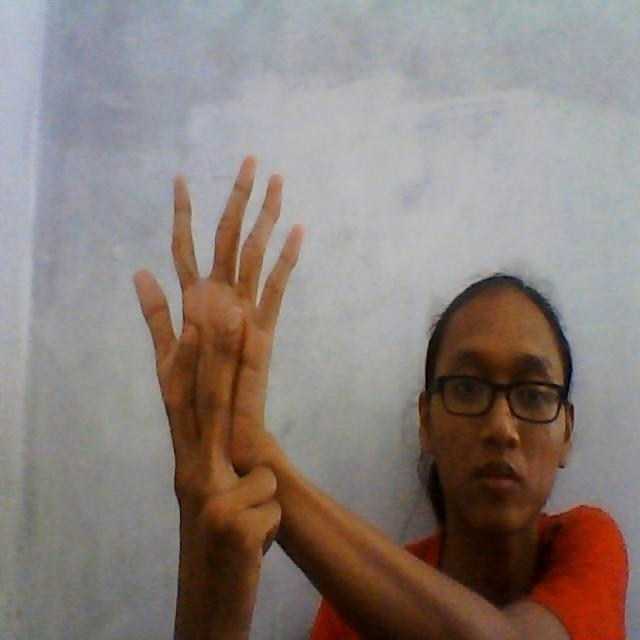N: (118, 132, 346, 568)
